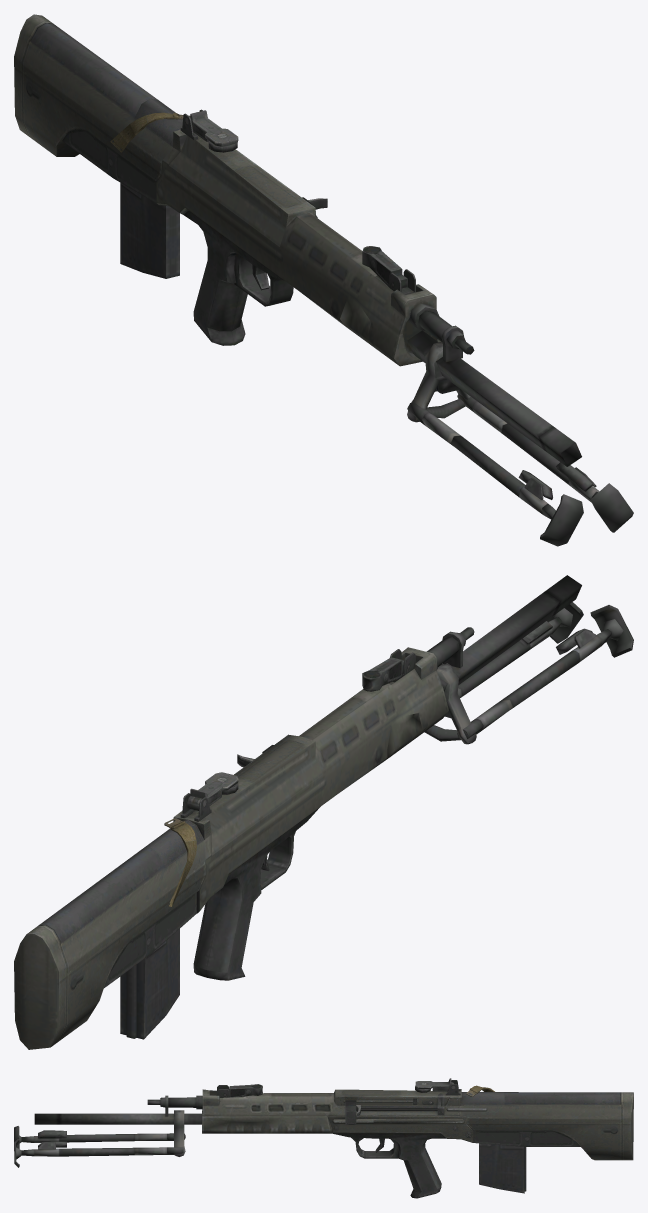
The model's file is Sniper_Rifle_TP_qub88_dj_lod0_Body_LOD_(000880).glb.
3 renders of one model, top to bottom at view 1: azimuth 30°, elevation 25°; view 2: azimuth 150°, elevation 25°; view 3: azimuth 270°, elevation 25°, orthographic. The views are drawn at different scales.
Parts seen in each view (by area): view 1: TP_qub88_dj_lod0; view 2: TP_qub88_dj_lod0; view 3: TP_qub88_dj_lod0.
Part boxes in pixels (x1,y1,x2,y2): TP_qub88_dj_lod0: [14, 14, 633, 546]; TP_qub88_dj_lod0: [14, 575, 633, 1049]; TP_qub88_dj_lod0: [14, 1078, 633, 1198].
Size of the model in its own units: 0.1064 by 0.2269 by 1.11.
1 material, 1 textured.
